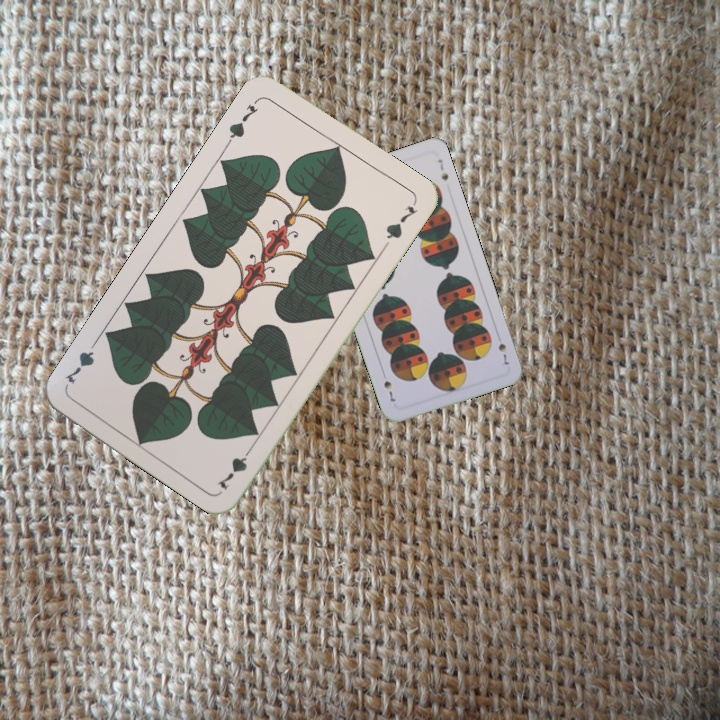G7: (212, 440, 257, 493), (222, 95, 262, 147)
S7: (494, 339, 512, 368)
